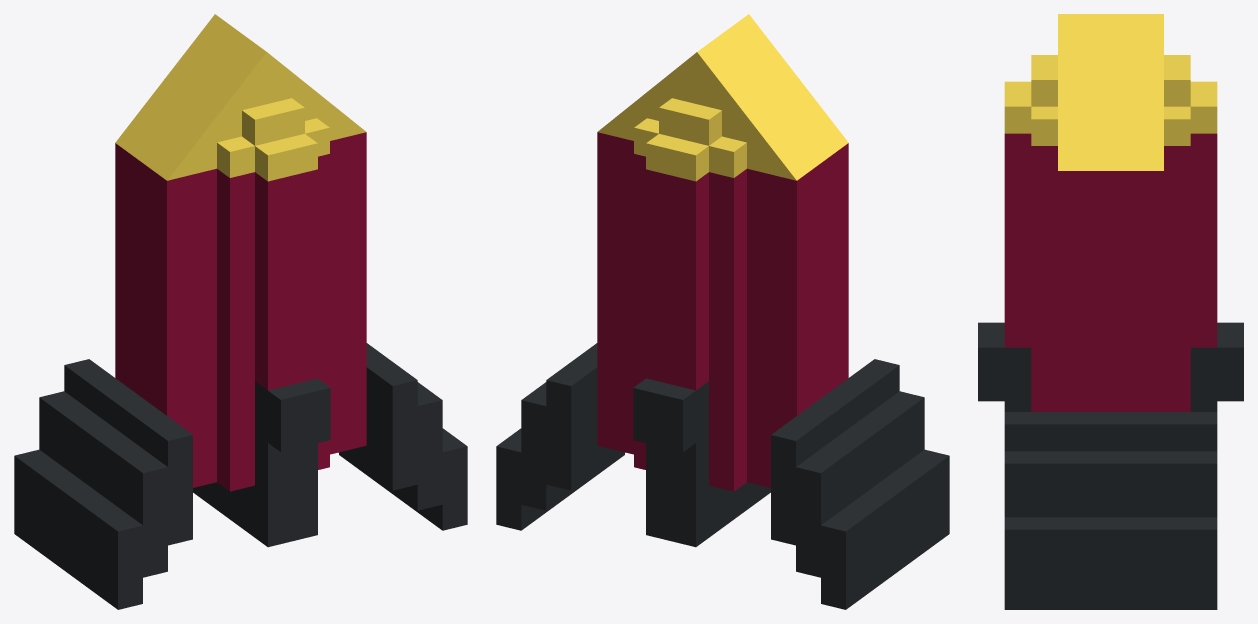
File: Missile.obj
The picture shows the model from 3 angles, left to right: view 1: azimuth 30°, elevation 25°; view 2: azimuth 150°, elevation 25°; view 3: azimuth 270°, elevation 25°; orthographic projection. The views are drawn at different scales.
Bounding box in the file's own units: 14 × 19 × 9.
1 material, 1 textured.
